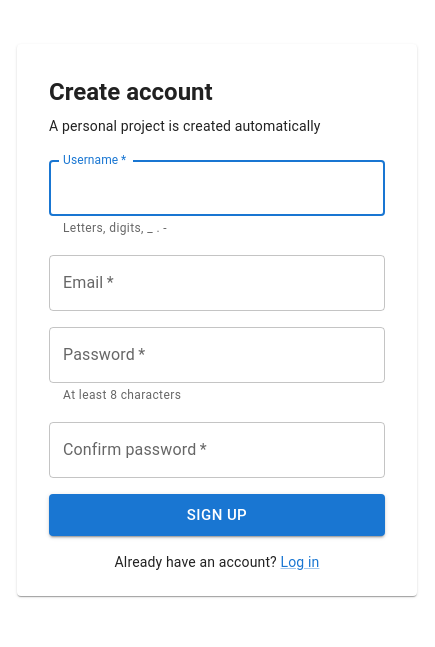
Test case: RegisterPage › rejects mismatched password confirmation
Type "goodname" into the field labelled "Username *" at (217, 188), box [49,160,385,216]
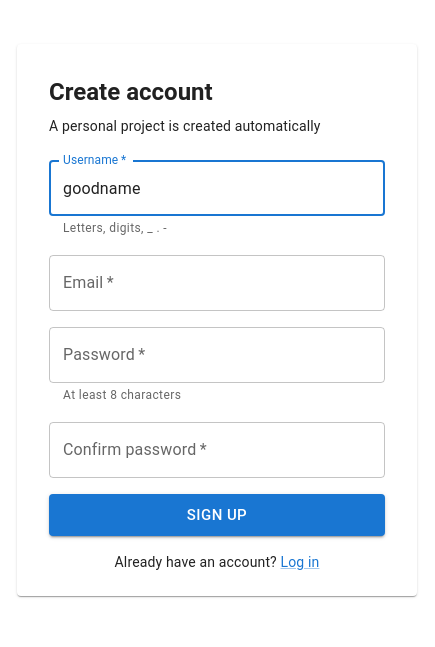
Type "a@b.com" into the field labelled "Email *" at (217, 283), box [49,255,385,311]
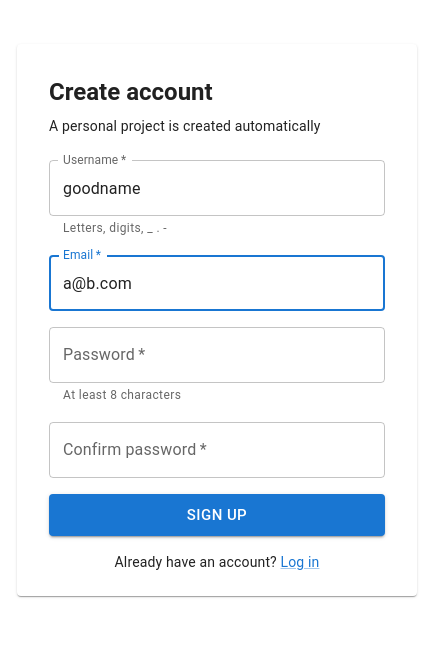
Type "password123" into the password field labelled "Password *" at (217, 355), box [49,327,385,383]
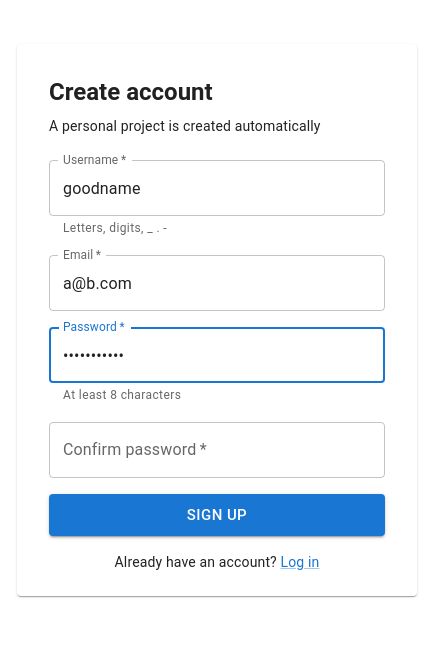
Type "password124" into the password field labelled "Confirm password *" at (217, 450), box [49,422,385,478]
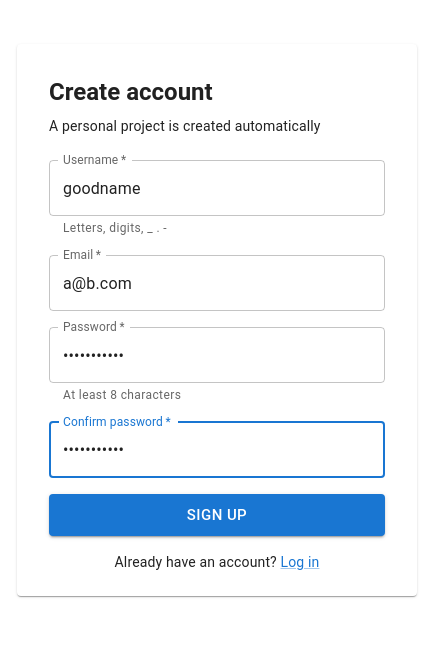
Click the button "Sign up" at (217, 515), box [49,494,385,536]
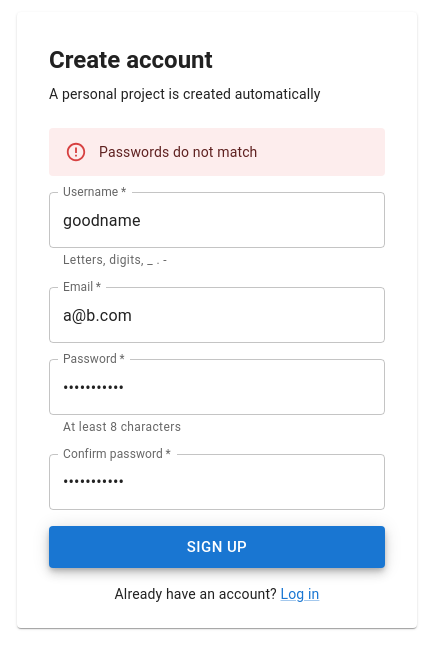
Check: the text "Passwords do not match" is shown, box [99,144,258,160]
